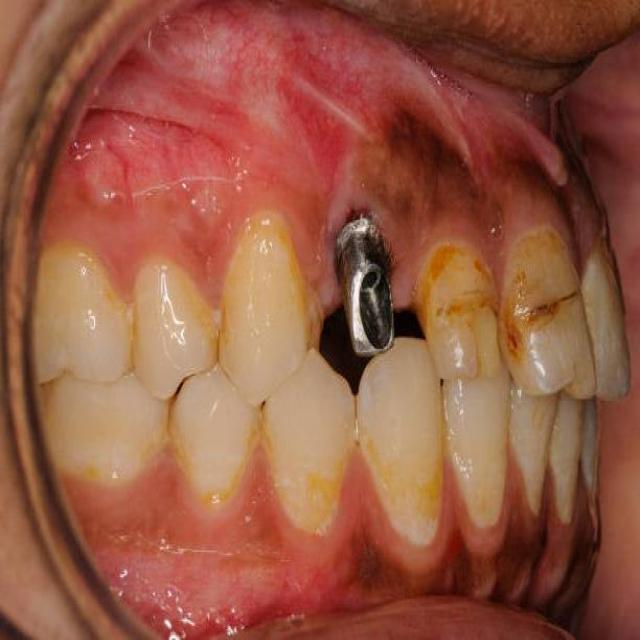Gingivitis: (372, 98, 493, 232), (497, 130, 588, 219), (344, 514, 404, 596), (497, 494, 533, 590), (438, 508, 469, 591)
